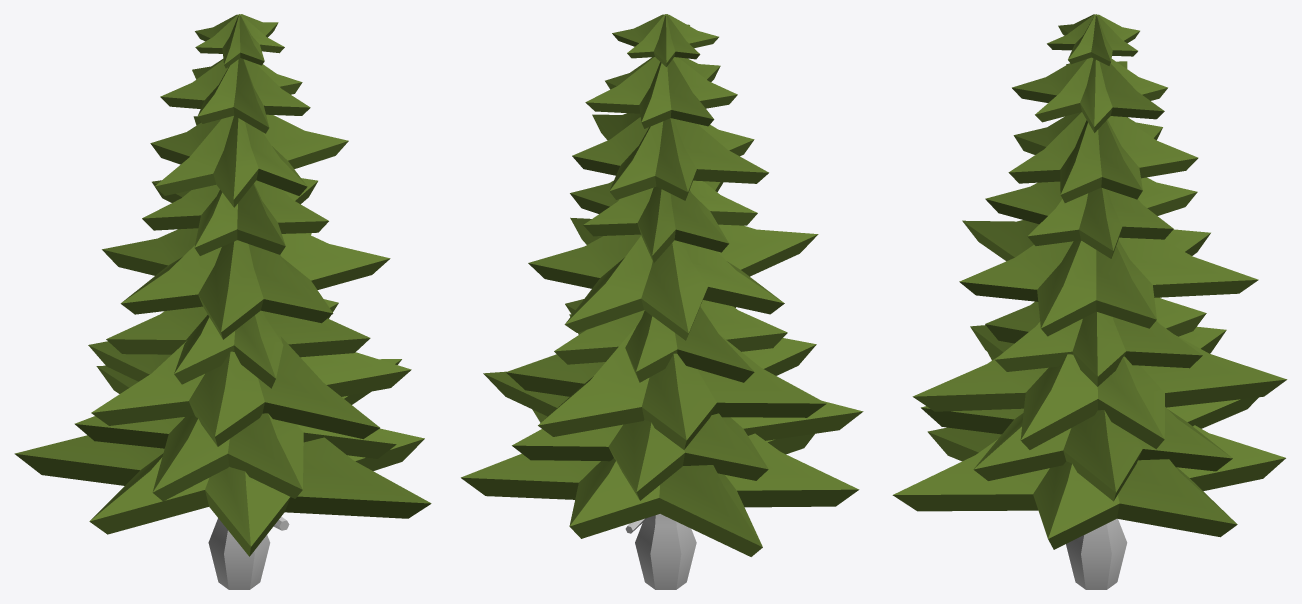
File: Tree3Fbx.fbx
3 renders of one model, left to right at view 1: azimuth 30°, elevation 25°; view 2: azimuth 150°, elevation 25°; view 3: azimuth 270°, elevation 25°, orthographic.
Parts seen in each view (by area): view 1: Tree 3; view 2: Tree 3; view 3: Tree 3.
Part boxes in pixels (x1,y1,x2,y2): Tree 3: (14, 14, 431, 589); Tree 3: (461, 14, 863, 589); Tree 3: (892, 14, 1287, 589).
Size of the model in its own units: 1556 by 2446 by 1544.
